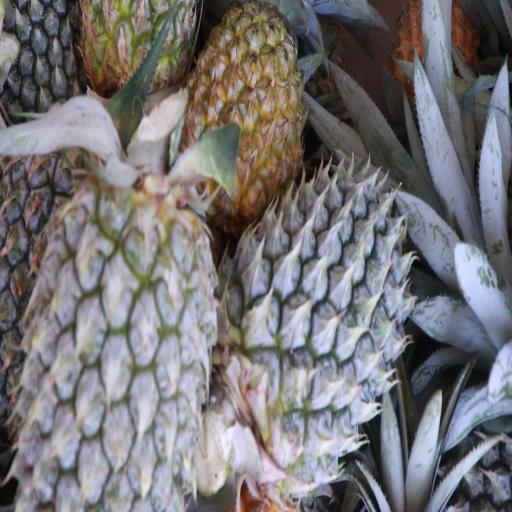Pineapple - v8 v1: (188, 0, 306, 201)
